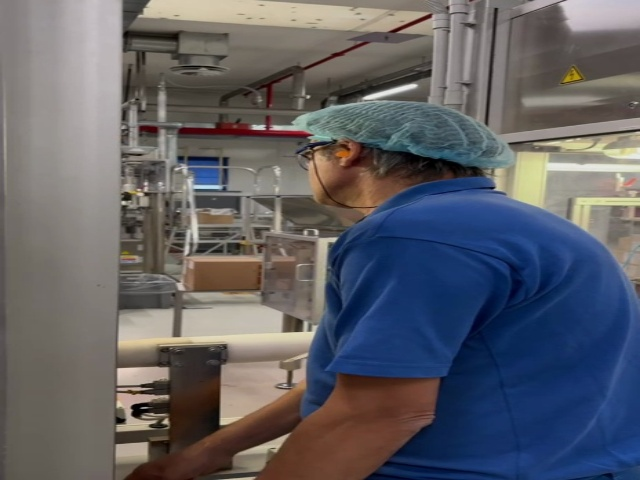Earplug: (331, 140, 359, 169)
Hairnet: (295, 95, 511, 165)
No_Helmet: (300, 96, 513, 166)
No_Vest: (324, 191, 640, 480)
Person: (288, 88, 640, 480)
Safety_Goggles: (296, 139, 338, 162)
